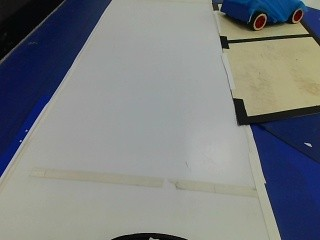car: (216, 0, 308, 32)
